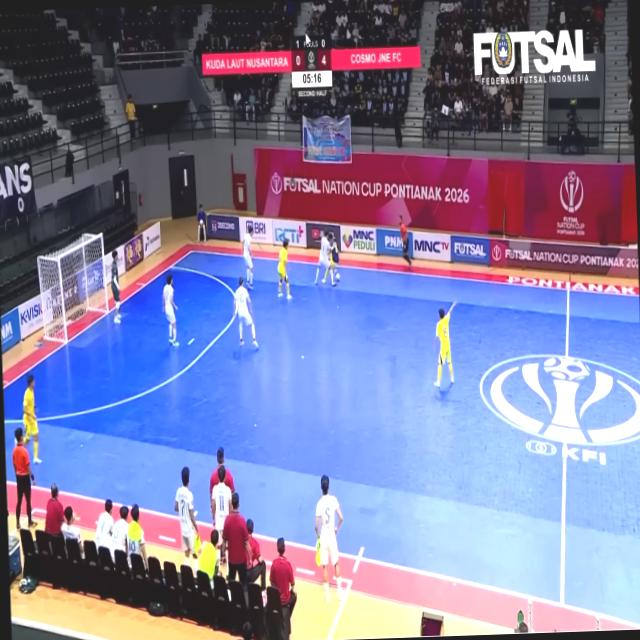keeper: (110, 250, 121, 323)
official: (222, 494, 251, 586), (270, 538, 296, 639), (198, 205, 207, 242)
players: (277, 239, 291, 298), (235, 286, 249, 315)
referee: (13, 428, 36, 529), (399, 216, 412, 269), (398, 215, 410, 265)
